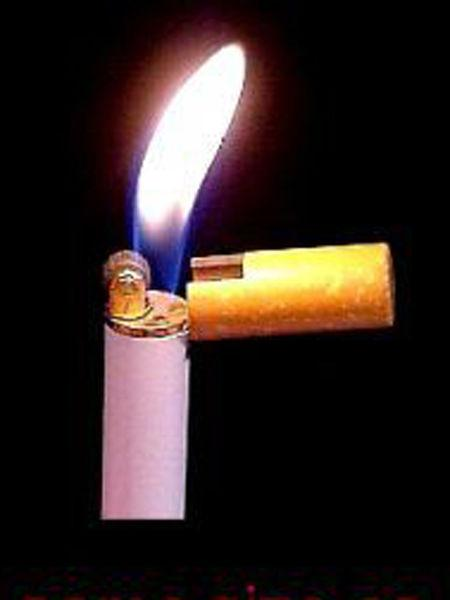fire: (123, 23, 249, 325)
